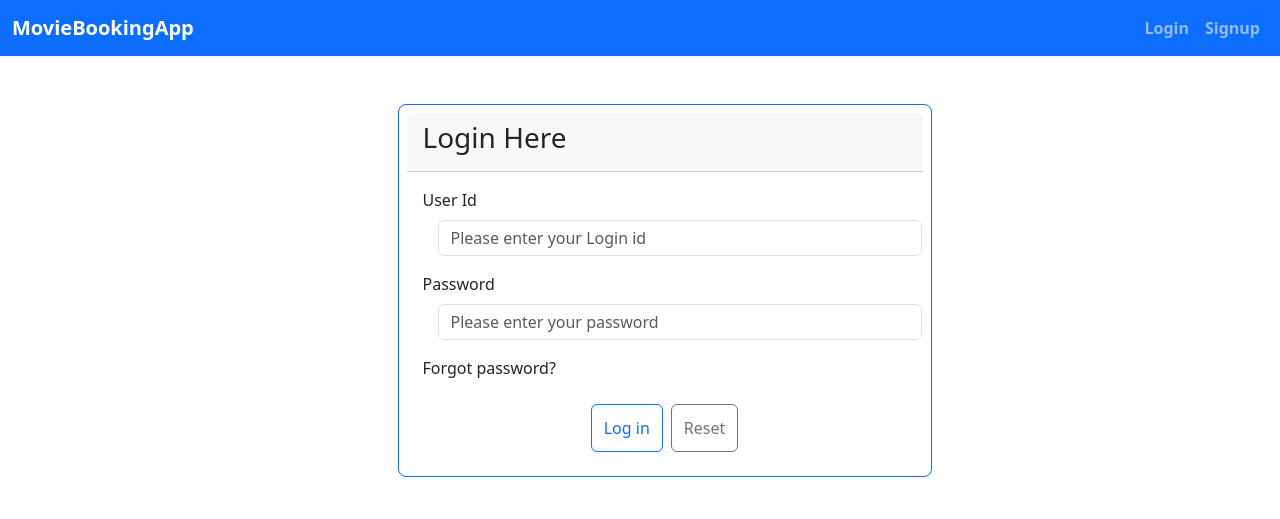
it: Login Component › displays error message for short loginId
The image size is (1280, 519).
Type "usr" into the field labelled "User Id".
click(680, 238); type("usr")  # box x1=438 y1=220 x2=922 y2=256
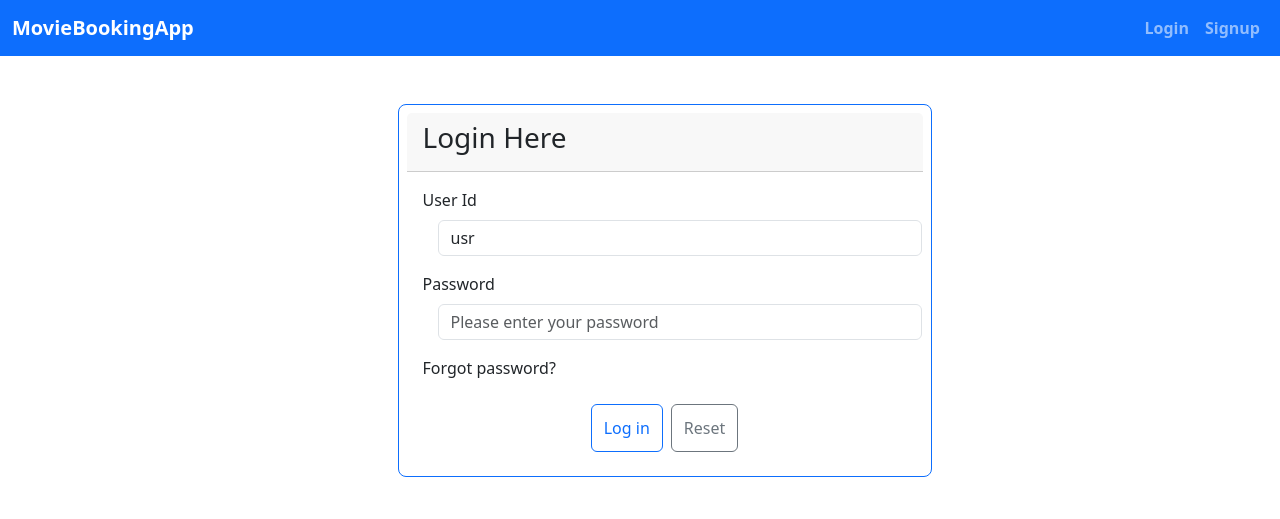
Type "password" into the password field labelled "Password".
click(680, 322); type("password")  # box x1=438 y1=304 x2=922 y2=340
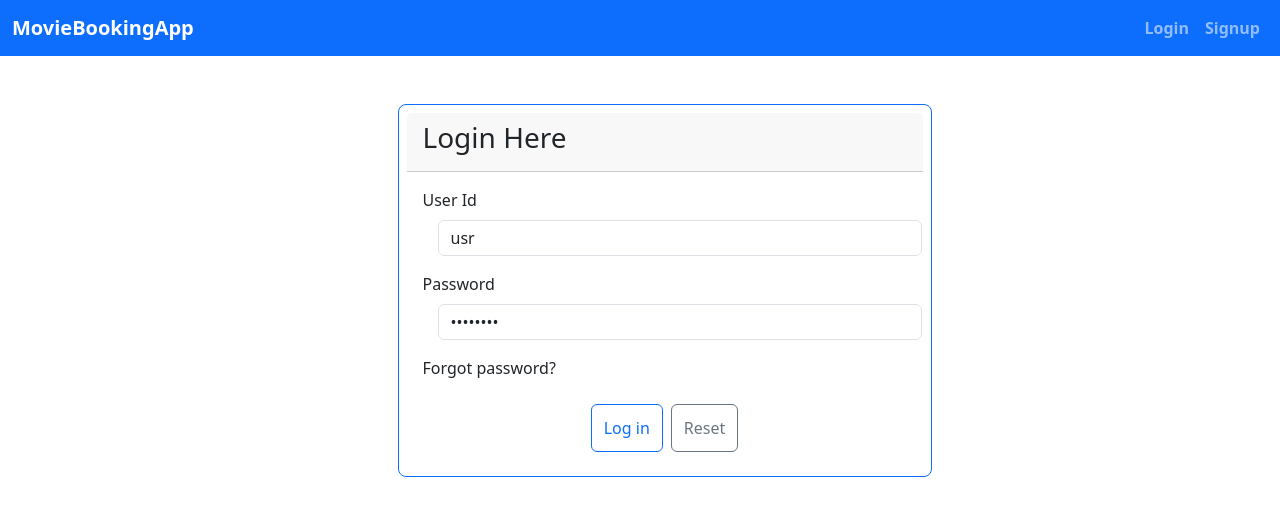
Click the button "Log in".
click(627, 428)  # box x1=591 y1=404 x2=663 y2=452
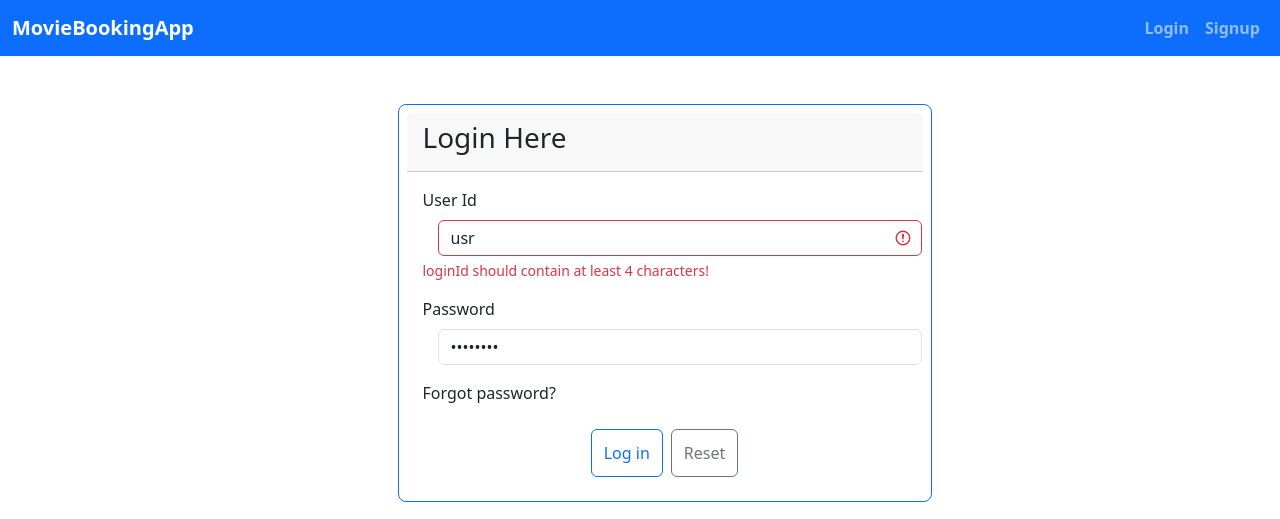
Result: the text "loginId should contain at least 4 characters!" is shown at x1=422 y1=261 x2=709 y2=280
